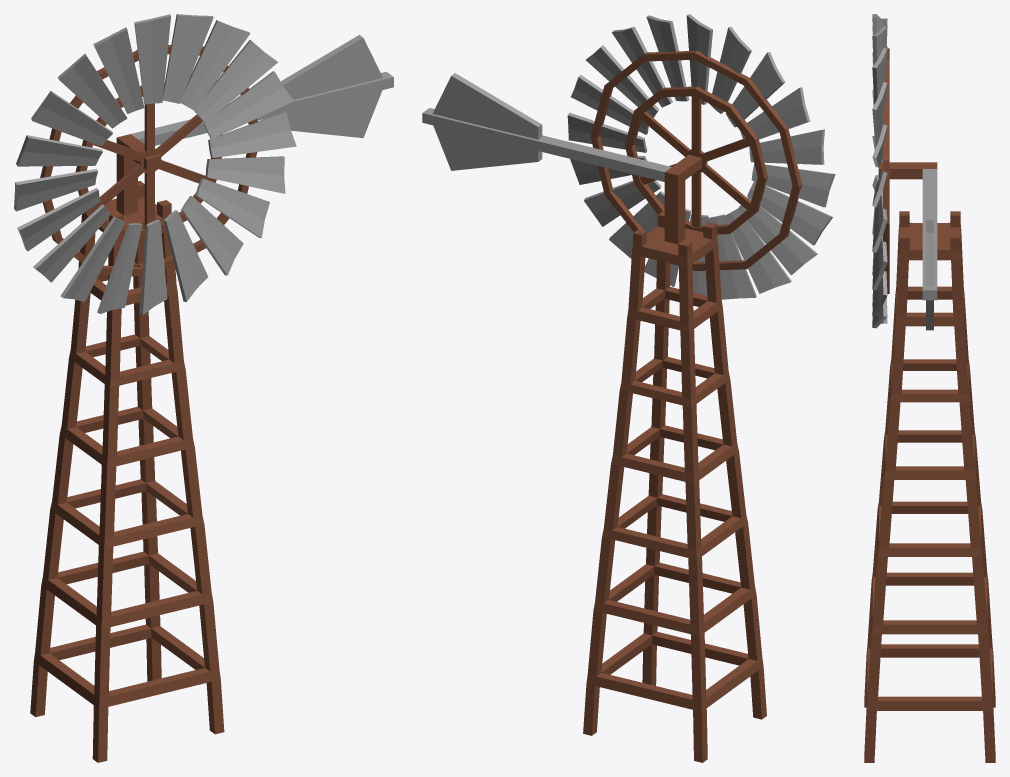
Rendered from Windmill.glb.
The picture shows the model from 3 angles, left to right: view 1: azimuth 30°, elevation 25°; view 2: azimuth 150°, elevation 25°; view 3: azimuth 270°, elevation 25°; orthographic projection. The views are drawn at different scales.
Parts seen in each view (by area): view 1: Windmill_Cube.020, Windmill_Blades_Cube.021; view 2: Windmill_Cube.020, Windmill_Blades_Cube.021; view 3: Windmill_Cube.020, Windmill_Blades_Cube.021.
Boxes of the visible parts, x1=… form: Windmill_Cube.020: x1=30, y1=35, x2=393, y2=762; Windmill_Blades_Cube.021: x1=14, y1=14, x2=296, y2=315; Windmill_Cube.020: x1=422, y1=73, x2=766, y2=762; Windmill_Blades_Cube.021: x1=567, y1=14, x2=835, y2=299; Windmill_Cube.020: x1=864, y1=162, x2=995, y2=762; Windmill_Blades_Cube.021: x1=872, y1=14, x2=889, y2=328.
Bounding box in the file's own units: 6.51 × 11.2 × 1.9.
